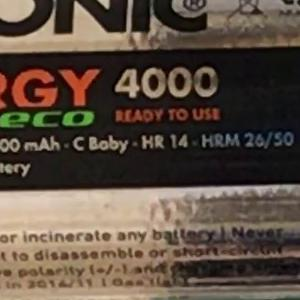keyword: (133, 127, 196, 157)
